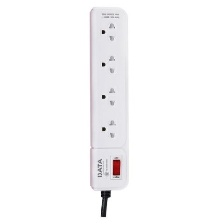three_eye_plug: (87, 6, 134, 196)
